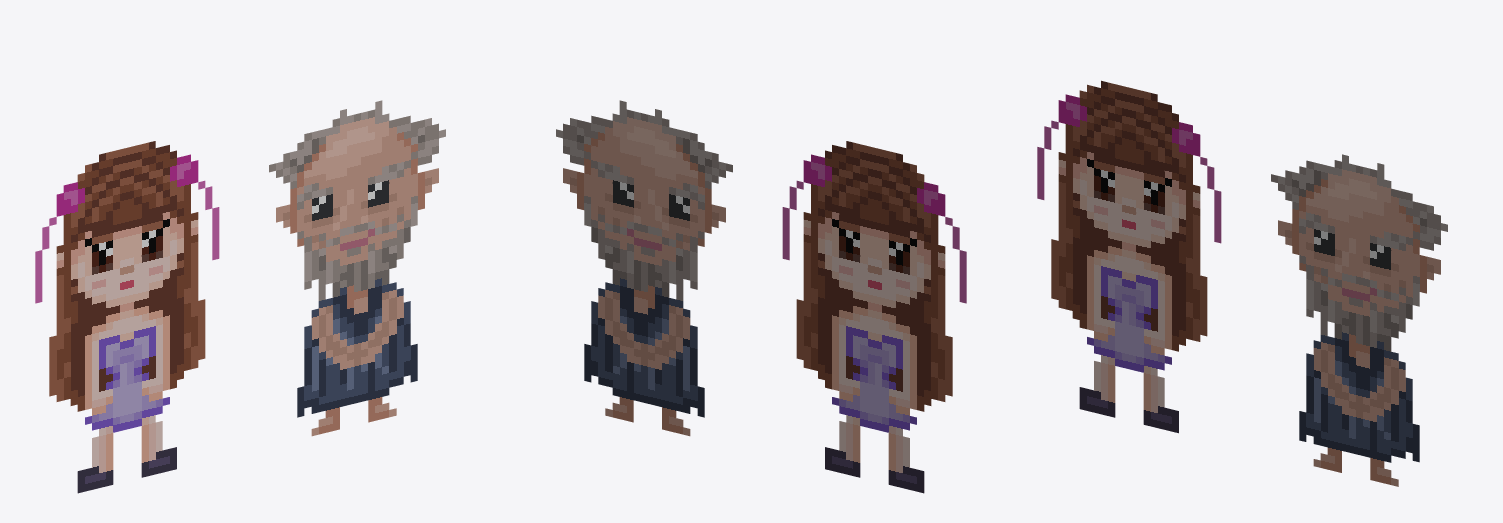
File: SH18-Charcters.glb
3 views of the same model, side by side, from view 1: azimuth 30°, elevation 25°; view 2: azimuth 150°, elevation 25°; view 3: azimuth 330°, elevation 25° (orthographic).
Parts seen in each view (by area): view 1: Empty.002, Empty.003; view 2: Empty.002, Empty.003; view 3: Empty.002, Empty.003.
Part boxes in pixels (x1=…): Empty.002: x1=35, y1=141, x2=219, y2=493; Empty.003: x1=269, y1=100, x2=445, y2=436; Empty.002: x1=782, y1=141, x2=966, y2=493; Empty.003: x1=556, y1=100, x2=732, y2=436; Empty.002: x1=1037, y1=80, x2=1221, y2=433; Empty.003: x1=1271, y1=154, x2=1447, y2=486.
Bounding box in the file's own units: 1.3 × 1 × 0.
1 material, 1 textured.
